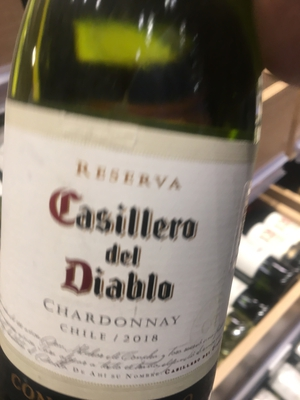casillero del diablo chardonnay: (1, 35, 254, 400)
